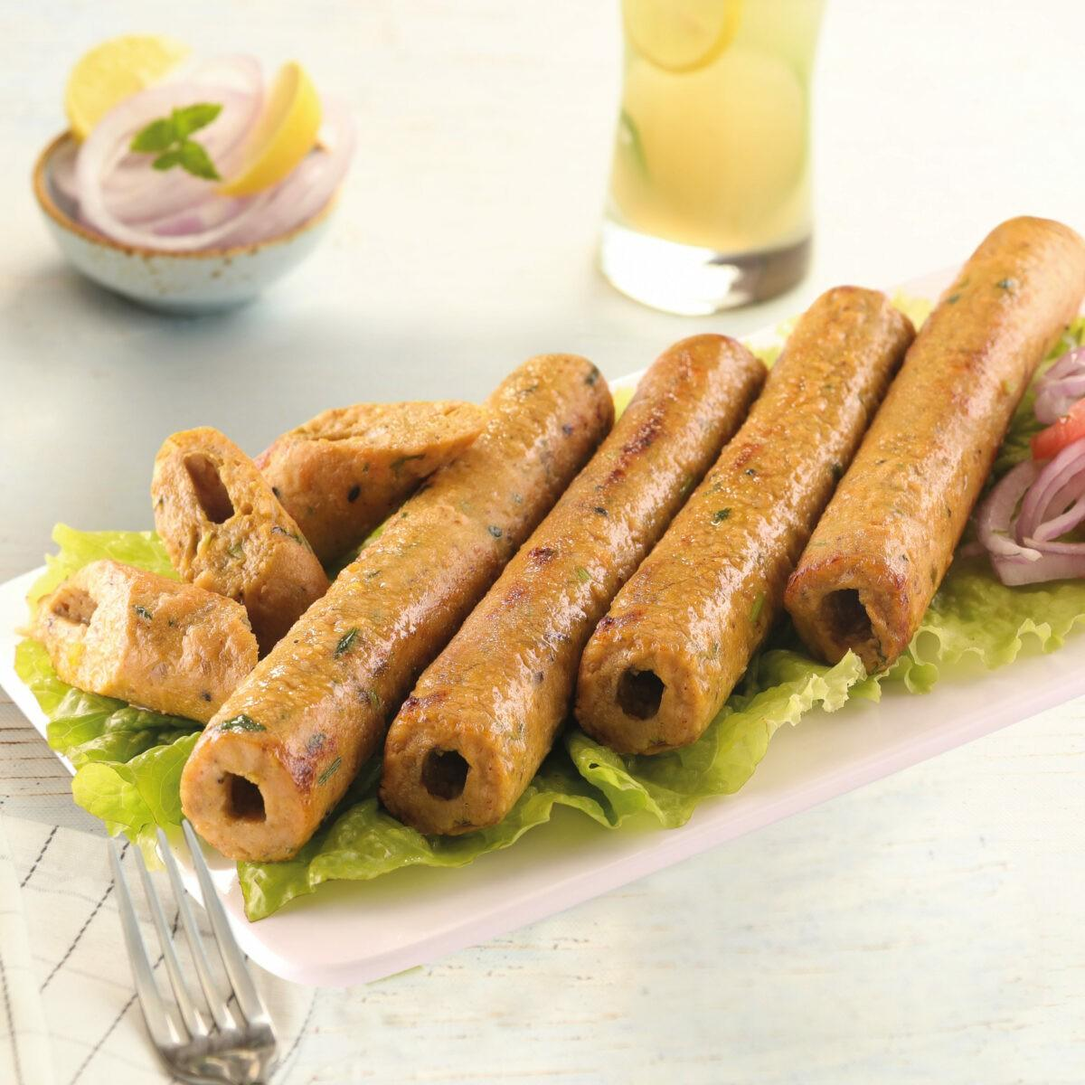Kebab: (179, 354, 612, 863), (383, 334, 765, 834), (580, 288, 913, 754), (783, 218, 1085, 673), (251, 396, 485, 584), (152, 429, 328, 657), (30, 559, 258, 718)
